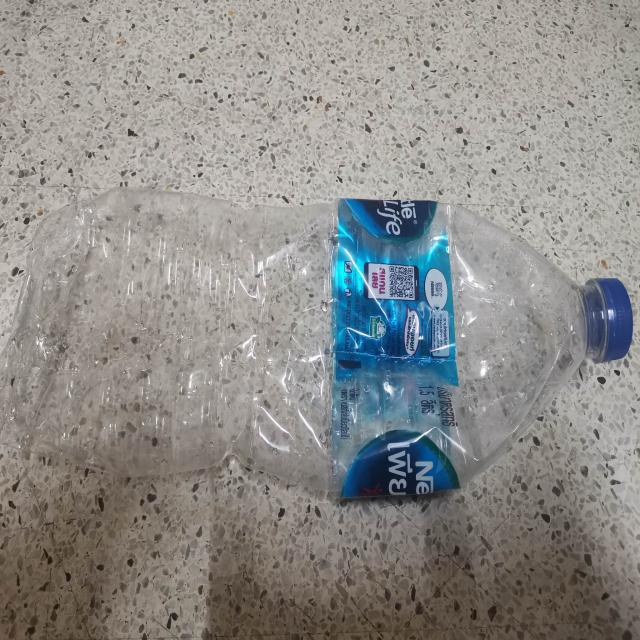plastic_bottle: (14, 187, 633, 498)
